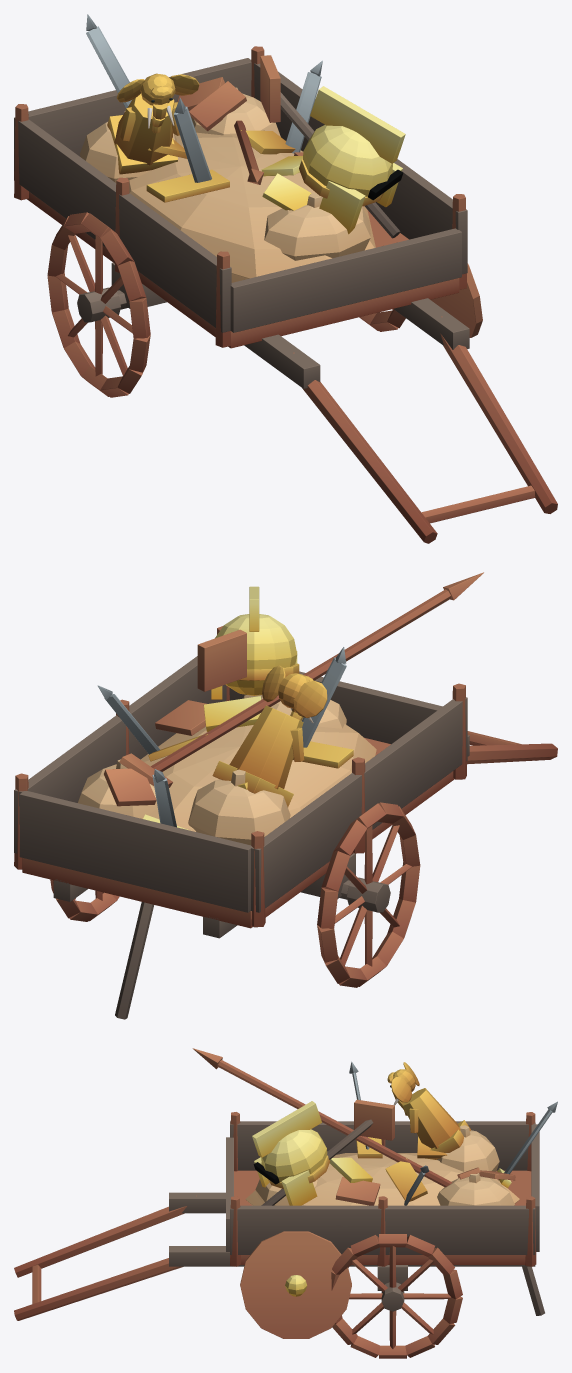
The model's file is relic_cart.glb.
3 renders of one model, top to bottom at view 1: azimuth 30°, elevation 25°; view 2: azimuth 150°, elevation 25°; view 3: azimuth 270°, elevation 25°, orthographic. The views are drawn at different scales.
Visible parts, largest first — view 1: relic_cart; view 2: relic_cart; view 3: relic_cart.
Boxes of the visible parts, bbox=[...] form: relic_cart: bbox=[14, 14, 557, 543]; relic_cart: bbox=[14, 572, 557, 1019]; relic_cart: bbox=[14, 1048, 557, 1358].
Bounding box in the file's own units: 2.55 × 2.41 × 5.34.
1 material, 1 textured.
